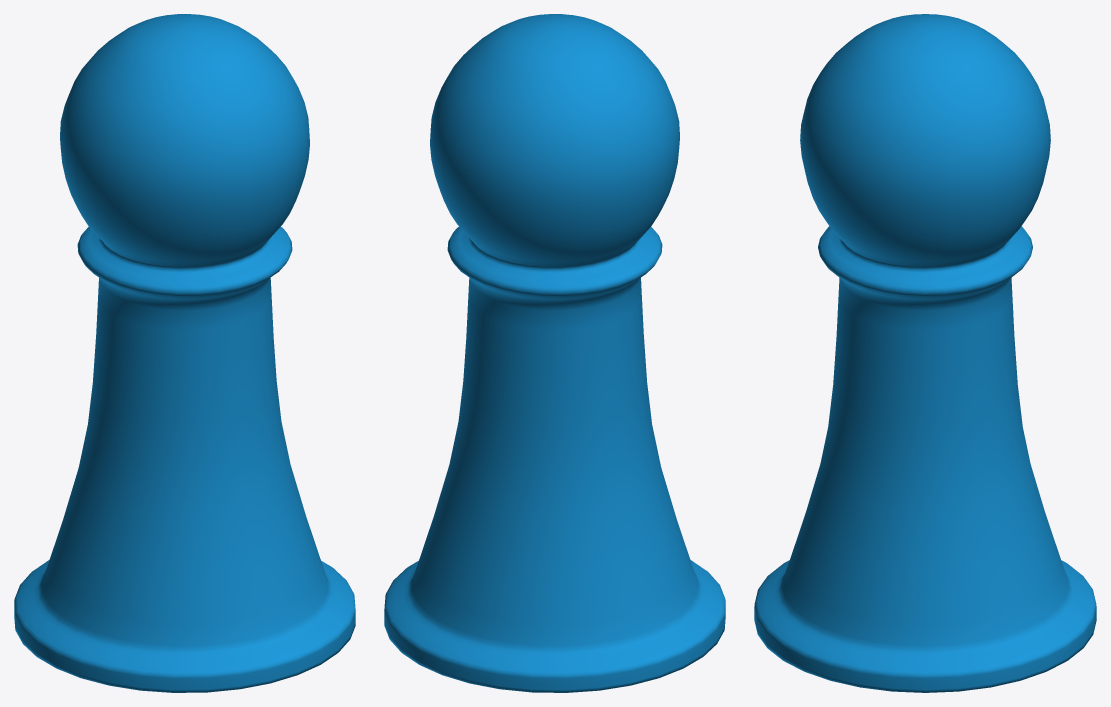
The model's file is pawn.obj.
3 views of the same model, side by side, from view 1: azimuth 30°, elevation 25°; view 2: azimuth 150°, elevation 25°; view 3: azimuth 270°, elevation 25° (orthographic).
Parts seen in each view (by area): view 1: Cylinder; view 2: Cylinder; view 3: Cylinder.
Boxes of the visible parts, x1,y1,x2,y2 form: Cylinder: (14,14,355,692); Cylinder: (384,14,725,692); Cylinder: (754,14,1096,692).
Bounding box in the file's own units: 0.981 × 1.89 × 0.981.
